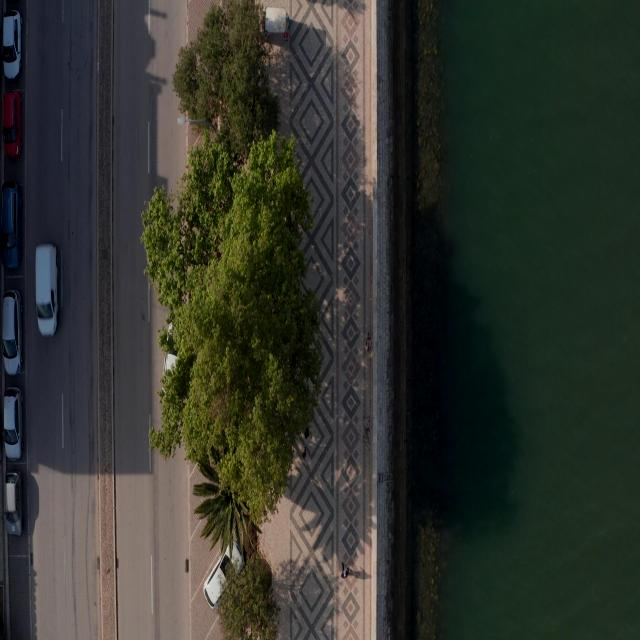Car: (0, 180, 22, 266), (1, 290, 23, 372), (3, 382, 25, 462), (2, 10, 22, 78), (3, 91, 23, 159), (3, 471, 22, 536)
Van: (204, 542, 244, 610), (35, 244, 60, 337), (162, 322, 178, 378)
